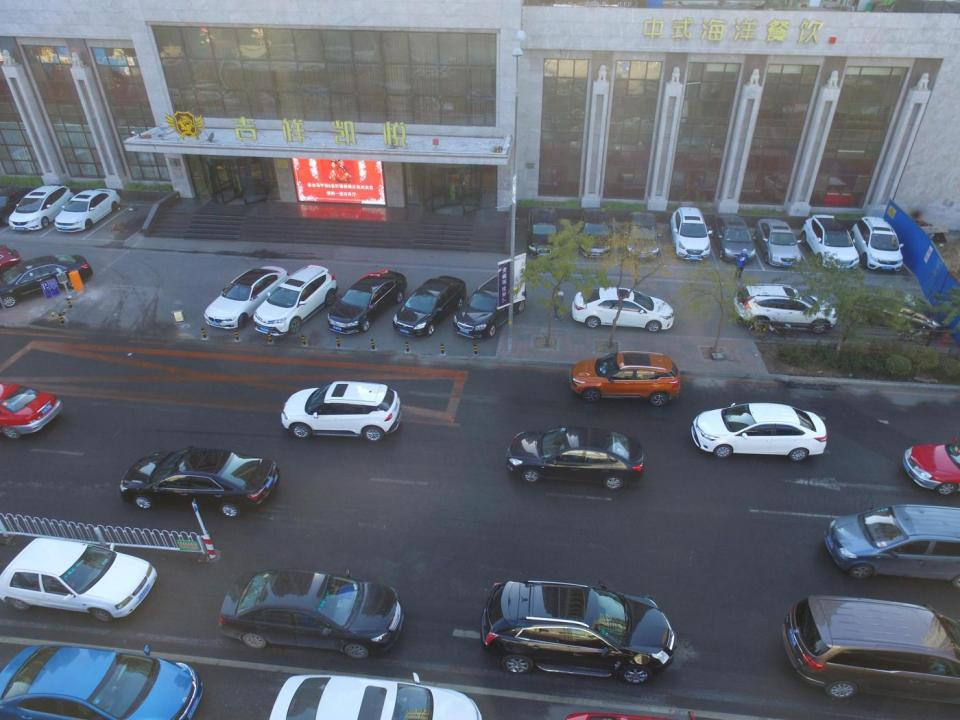car: (472, 571, 679, 690), (220, 566, 404, 659), (0, 644, 200, 719), (0, 536, 156, 623), (116, 444, 282, 516), (822, 502, 960, 586), (258, 673, 494, 720), (503, 424, 644, 491), (691, 400, 828, 462), (280, 380, 402, 443), (567, 349, 680, 407), (252, 263, 338, 337), (731, 280, 836, 336), (204, 263, 291, 329), (0, 256, 95, 312), (328, 268, 407, 334), (571, 282, 674, 332), (451, 272, 526, 340), (394, 274, 469, 339), (859, 284, 946, 339), (0, 382, 63, 442), (801, 212, 860, 272), (54, 186, 122, 236), (7, 185, 73, 233), (852, 213, 903, 275), (755, 218, 804, 270), (670, 204, 712, 260), (715, 210, 758, 263), (622, 208, 662, 264), (527, 205, 563, 259), (582, 204, 616, 255)
van: (782, 590, 960, 710)
